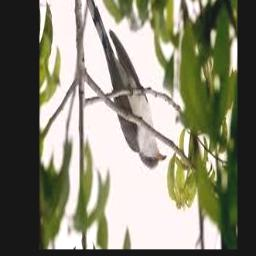Cuckoo: (84, 0, 167, 170)
